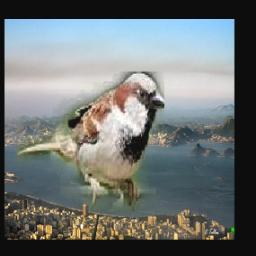Sparrow: (17, 72, 164, 211)
